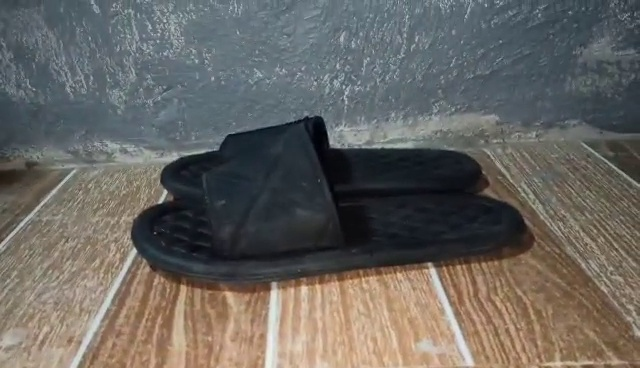slipper: (135, 118, 526, 291), (158, 118, 486, 201)
